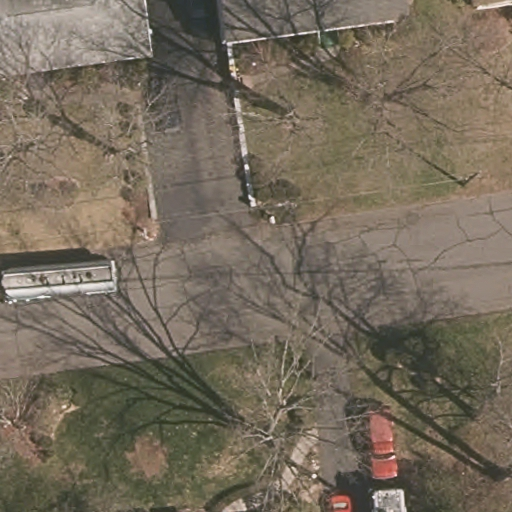DT: (460, 164, 489, 192)
